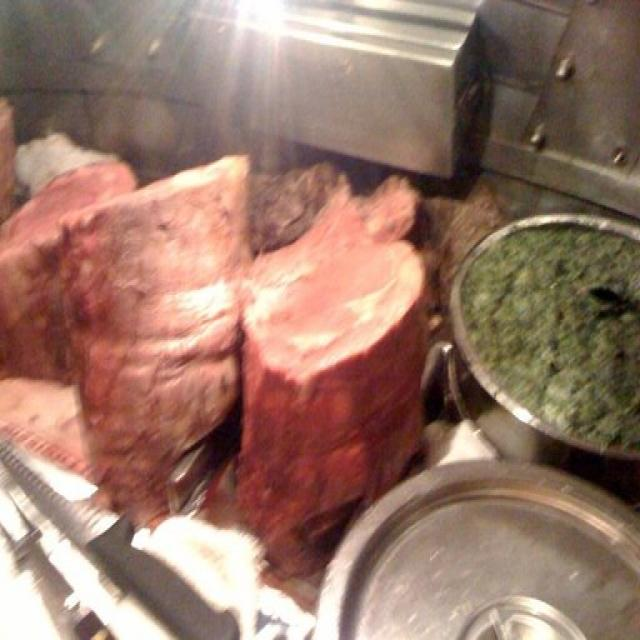rib: (1, 100, 434, 533)
